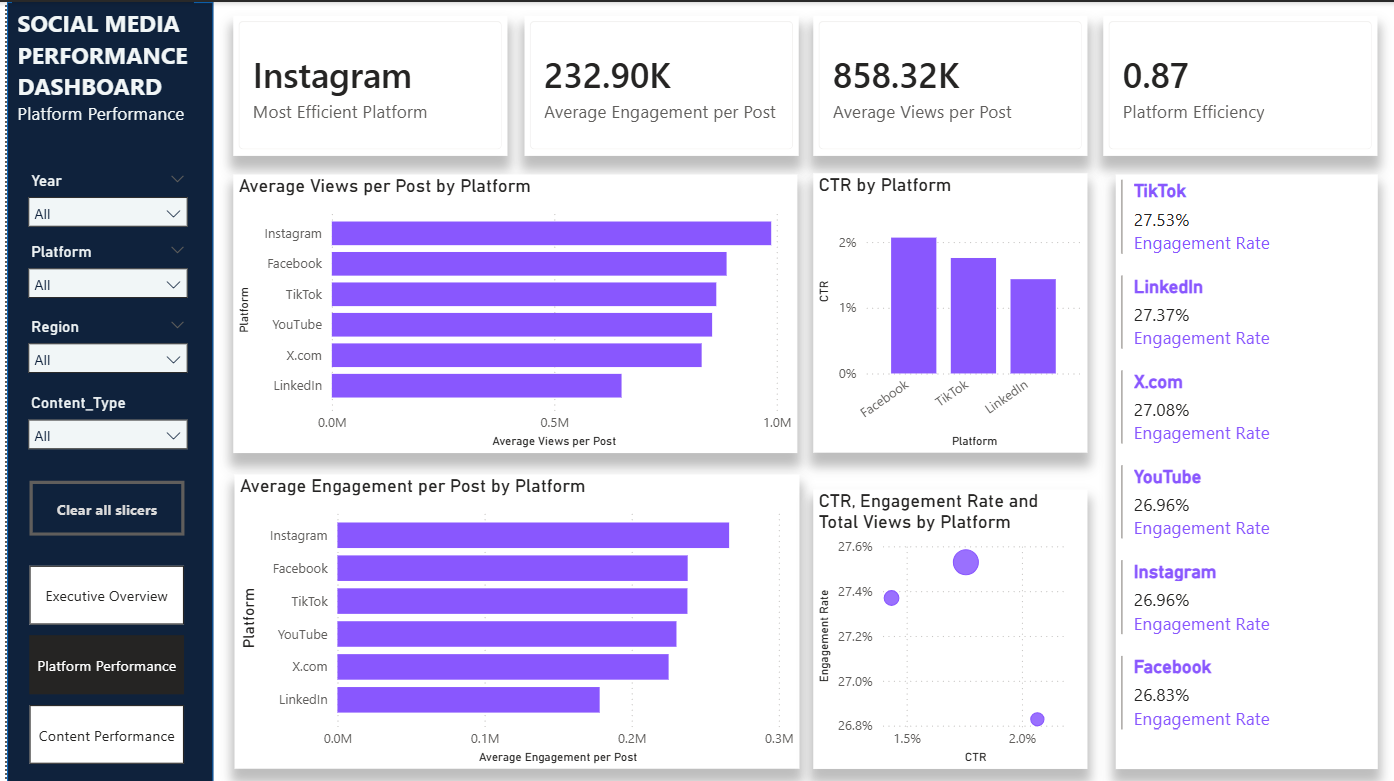

This screenshot's page, from the dashboard's own definition file:
{"tool":"powerbi","page":{"name":"Platform Performance","canvas":[1280,720],"ordinal":1},"visuals":[{"type":"shape","box":[0,0,189.7,719.9],"z":0},{"type":"textbox","box":[4.9,0,167.5,150.5],"z":1000},{"type":"slicer","fields":{"Values":["Dim_Date.Year"]},"box":[8.7,150.2,166.6,66.6],"z":2000},{"type":"slicer","fields":{"Values":["Dim_Platform.Platform"]},"box":[8.7,215.7,166.6,58.6],"z":3000},{"type":"slicer","fields":{"Values":["Dim_Region.Region"]},"box":[8.7,284.6,166.6,58.6],"z":4000},{"type":"slicer","fields":{"Values":["Dim_Content.Content_Type"]},"box":[8.7,354.7,166.6,62],"z":5000},{"type":"pageNavigator","box":[20.7,518.1,142.4,184.9],"z":6000},{"type":"actionButton","box":[20.7,440,142.4,50.5],"z":7000},{"type":"cardVisual","fields":{"Data":["Measures_Table.Most Efficient Platform"]},"box":[208.1,13,252.2,128.9],"z":8000},{"type":"cardVisual","fields":{"Data":["Measures_Table.Average Views per Post"]},"box":[741.3,13,252.2,128.9],"z":9000},{"type":"cardVisual","fields":{"Data":["Measures_Table.Average Engagement per Post"]},"box":[475.4,13,252.2,128.9],"z":10000},{"type":"cardVisual","fields":{"Data":["Measures_Table.Platform Efficiency"]},"box":[1007.3,13,252.2,128.9],"z":11000},{"type":"clusteredBarChart","fields":{"Category":["Dim_Platform.Platform"],"Y":["Measures_Table.Average Views per Post"]},"box":[208.2,158.6,518.6,255.8],"z":12000},{"type":"clusteredBarChart","fields":{"Category":["Dim_Platform.Platform"],"Y":["Measures_Table.Average Engagement per Post"]},"box":[208.7,434.4,519.4,270.6],"z":13000},{"type":"clusteredColumnChart","fields":{"Category":["Dim_Platform.Platform"],"Y":["Measures_Table.CTR"]},"box":[740.8,157.5,252.3,257],"z":14000},{"type":"multiRowCard","fields":{"Values":["Dim_Platform.Platform","Measures_Table.Engagement Rate"]},"box":[1018.7,158.6,240.7,546.5],"z":15000},{"type":"scatterChart","fields":{"X":["Measures_Table.CTR"],"Y":["Measures_Table.Engagement Rate"],"Size":["Measures_Table.Total Views"],"Category":["Dim_Platform.Platform"]},"box":[740.8,448.2,252.3,257],"z":16000}]}

Visuals, with their boxes in screenshot pixels (x1, y1, x2, y2), scaled from the page's 1280x720 canvas onto the 1394x781 screenshot:
shape: rect(0, 0, 207, 780)
textbox: rect(5, 0, 188, 163)
slicer - Dim_Date.Year: rect(9, 163, 191, 235)
slicer - Dim_Platform.Platform: rect(9, 234, 191, 298)
slicer - Dim_Region.Region: rect(9, 309, 191, 372)
slicer - Dim_Content.Content_Type: rect(9, 385, 191, 452)
pageNavigator: rect(23, 562, 178, 763)
actionButton: rect(23, 477, 178, 532)
cardVisual - Measures_Table.Most Efficient Platform: rect(227, 14, 501, 154)
cardVisual - Measures_Table.Average Views per Post: rect(807, 14, 1082, 154)
cardVisual - Measures_Table.Average Engagement per Post: rect(518, 14, 792, 154)
cardVisual - Measures_Table.Platform Efficiency: rect(1097, 14, 1372, 154)
clusteredBarChart - Dim_Platform.Platform x Measures_Table.Average Views per Post: rect(227, 172, 792, 450)
clusteredBarChart - Dim_Platform.Platform x Measures_Table.Average Engagement per Post: rect(227, 471, 793, 765)
clusteredColumnChart - Dim_Platform.Platform x Measures_Table.CTR: rect(807, 171, 1082, 450)
multiRowCard - Dim_Platform.Platform x Measures_Table.Engagement Rate: rect(1109, 172, 1372, 765)
scatterChart - Measures_Table.CTR x Measures_Table.Engagement Rate: rect(807, 486, 1082, 765)
